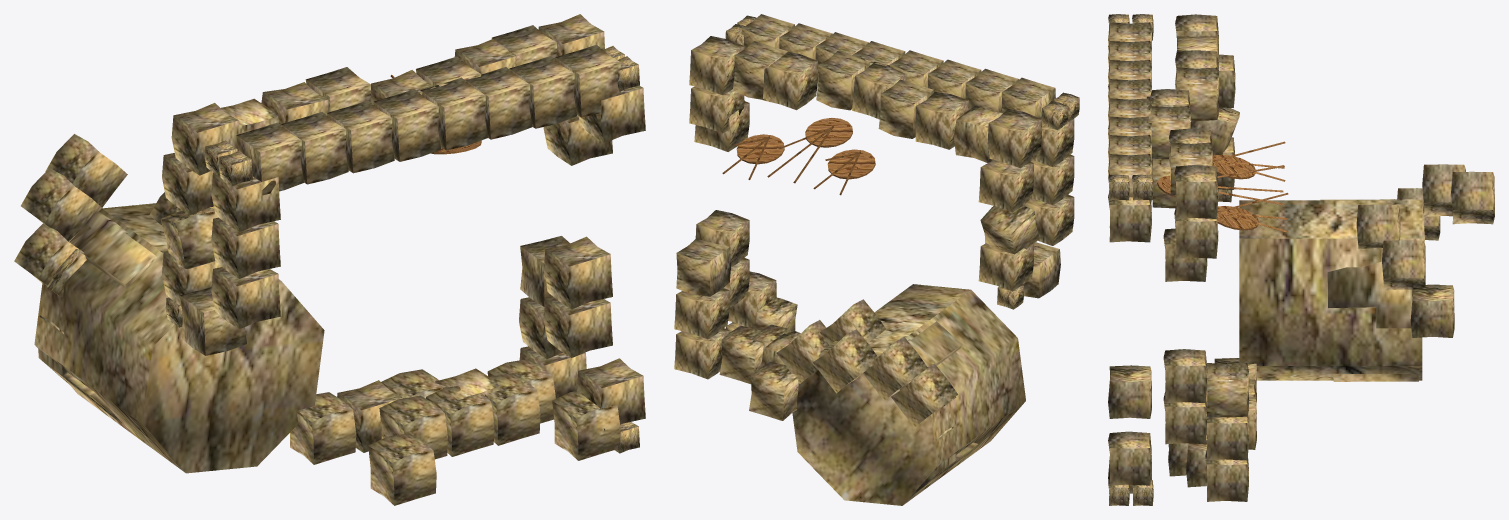
File: archery_000005.obj
3 views of the same model, side by side, from view 1: azimuth 30°, elevation 25°; view 2: azimuth 150°, elevation 25°; view 3: azimuth 270°, elevation 25° (orthographic). The views are drawn at different scales.
Visible parts, largest first — view 1: Cylinder.003, Cylinder.054_Cylinder.062, Cylinder.053_Cylinder.061, Cylinder.000, Cylinder.018, Cylinder.005, Cylinder.010, Cylinder.046_Cylinder.052, Cylinder.019, Cylinder.025, Cylinder.021, Cylinder.022 (+34 smaller); view 2: Cylinder.003, Cylinder.054_Cylinder.062, Cylinder.055_Cylinder.063, Cylinder.013, Cylinder.043_Cylinder.049, Cylinder.035, Cylinder.042_Cylinder.048, Cylinder.014, Cylinder.027, Cylinder.012, Cylinder.044_Cylinder.050, Cylinder.028 (+33 smaller); view 3: Cylinder.003, Cylinder.055_Cylinder.063, Cylinder.053_Cylinder.061, Cylinder.054_Cylinder.062, Cylinder.000, Cylinder.013, Cylinder.014, Cylinder.018, Cylinder.020, Cylinder.028, Cylinder.012, Cylinder.016 (+32 smaller).
Part boxes in pixels (x1,y1,x2,y2): Cylinder.003: (34,203,324,473); Cylinder.054_Cylinder.062: (14,134,127,297); Cylinder.053_Cylinder.061: (38,211,156,423); Cylinder.000: (368,433,436,505); Cylinder.018: (543,236,612,309); Cylinder.005: (552,391,620,460); Cylinder.010: (290,392,356,464); Cylinder.046_Cylinder.052: (211,267,280,328); Cylinder.019: (543,296,612,357); Cylinder.025: (236,122,303,195); Cylinder.021: (420,77,487,150); Cylinder.022: (373,89,440,161); Cylinder.003: (792,284,1025,505); Cylinder.054_Cylinder.062: (813,329,957,427); Cylinder.055_Cylinder.063: (749,299,885,420); Cylinder.013: (676,238,731,296); Cylinder.043_Cylinder.049: (987,109,1041,168); Cylinder.035: (763,52,817,110); Cylinder.042_Cylinder.048: (978,159,1033,212); Cylinder.014: (689,36,744,95); Cylinder.027: (915,92,969,149); Cylinder.012: (674,288,729,339); Cylinder.044_Cylinder.050: (980,205,1039,254); Cylinder.028: (878,79,933,138); Cylinder.003: (1239,200,1422,380); Cylinder.055_Cylinder.063: (1356,204,1454,337); Cylinder.053_Cylinder.061: (1320,199,1424,381); Cylinder.054_Cylinder.062: (1397,164,1494,240); Cylinder.000: (1108,365,1151,418); Cylinder.013: (1206,363,1248,417); Cylinder.014: (1174,165,1218,218); Cylinder.018: (1163,349,1207,403); Cylinder.020: (1108,431,1151,485); Cylinder.028: (1175,67,1218,120); Cylinder.012: (1206,408,1248,460); Cylinder.016: (1108,194,1151,242).
Bounding box in the file's own units: 9.16 × 7.81 × 8.29.
